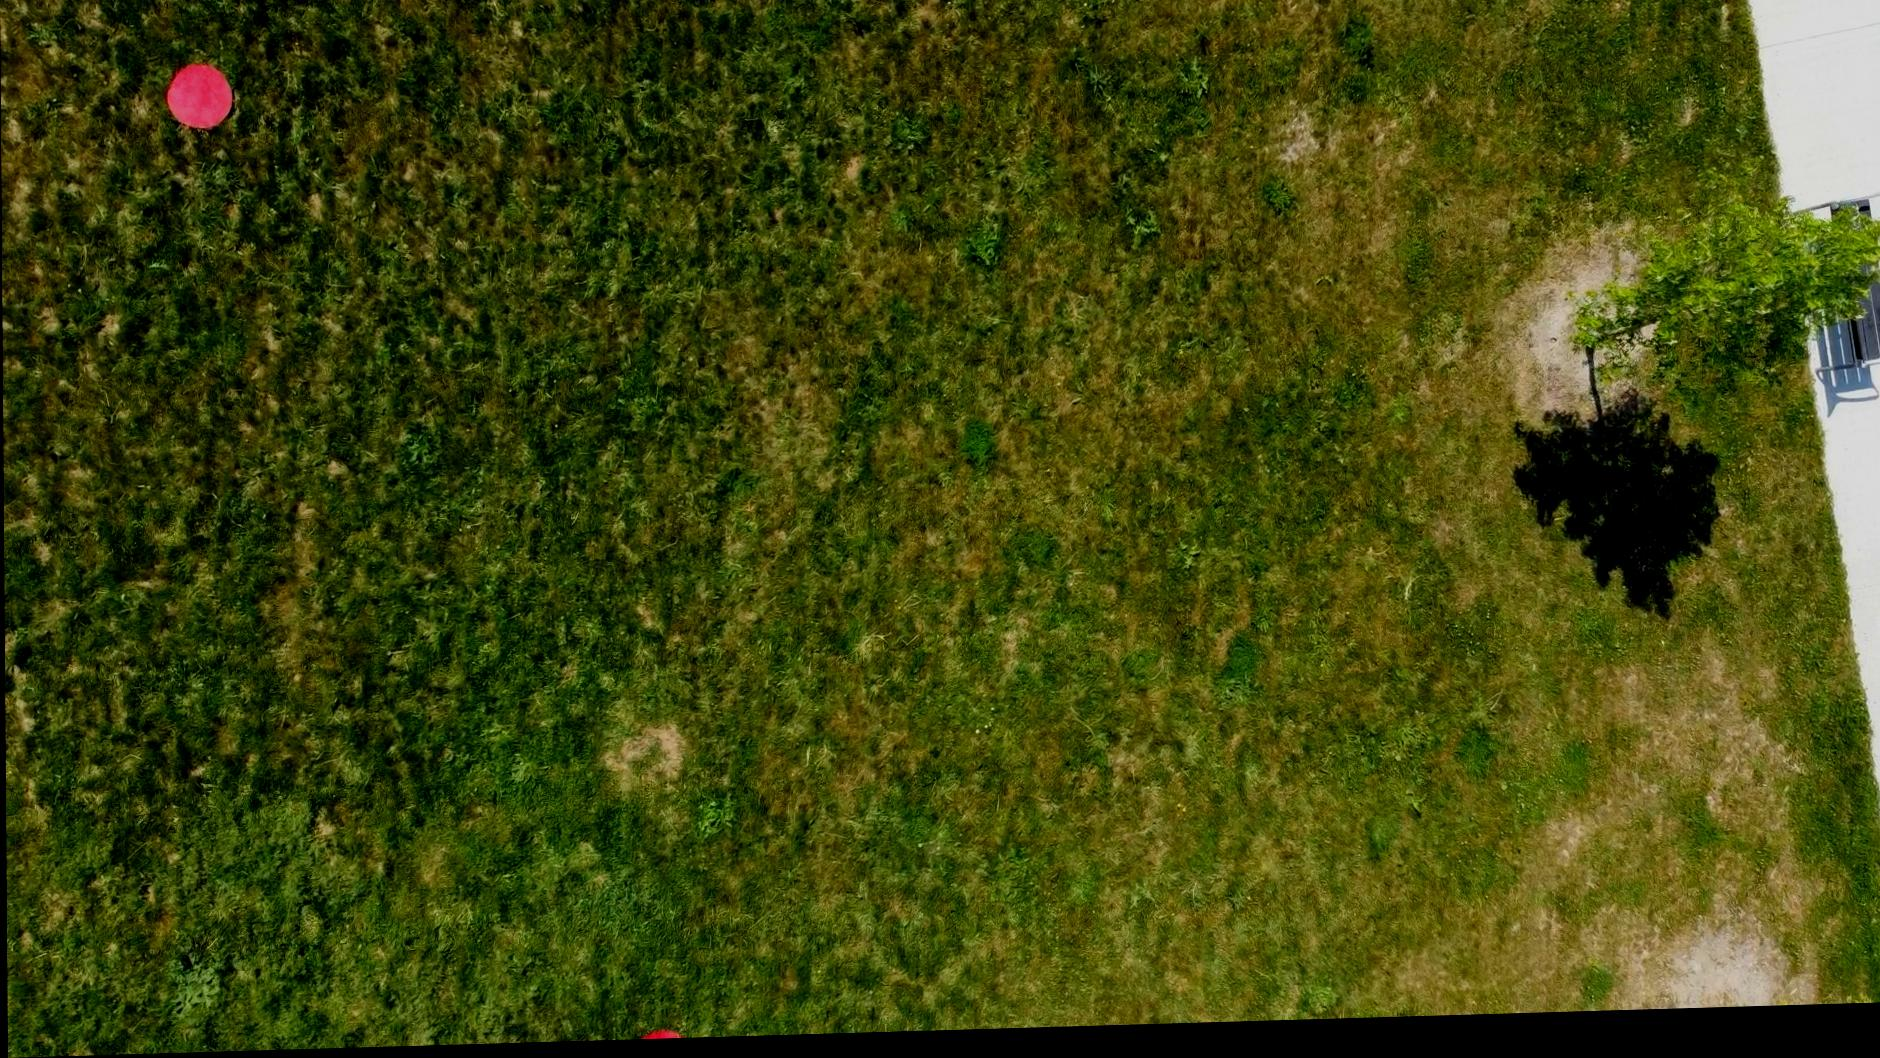Red: (164, 62, 239, 133), (625, 1030, 693, 1044)
